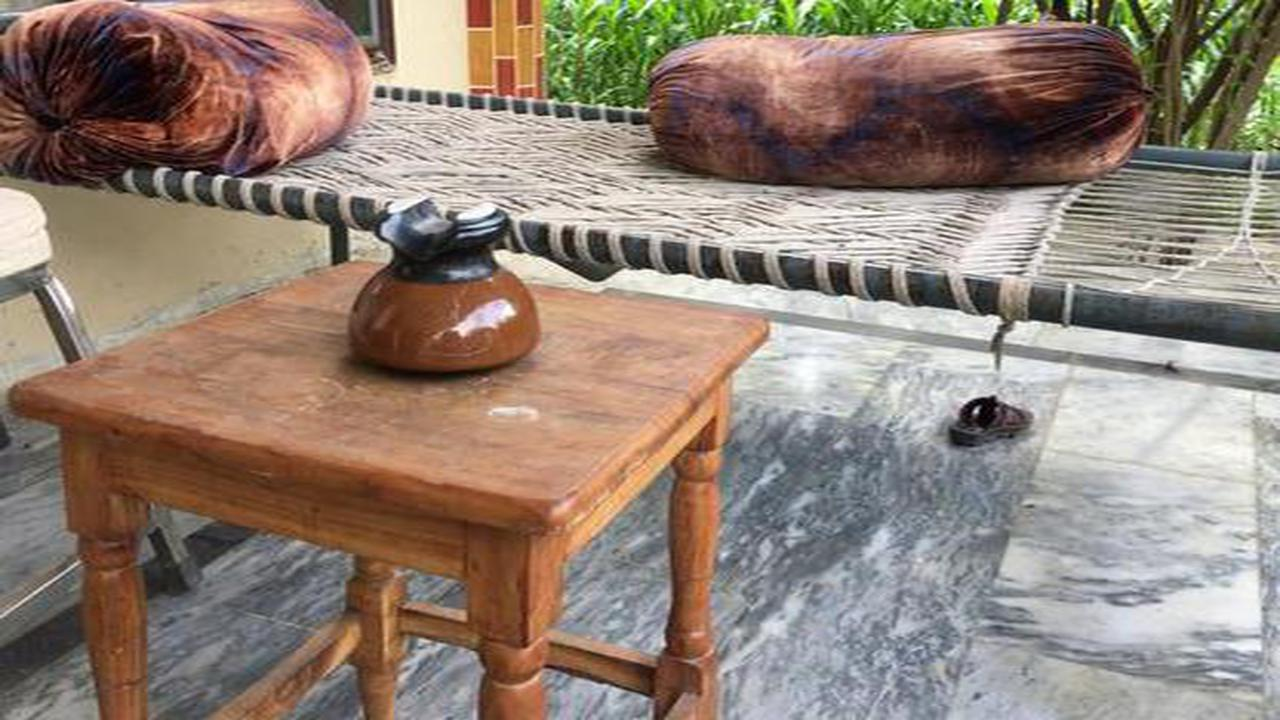insulator_pin: (333, 186, 557, 390)
